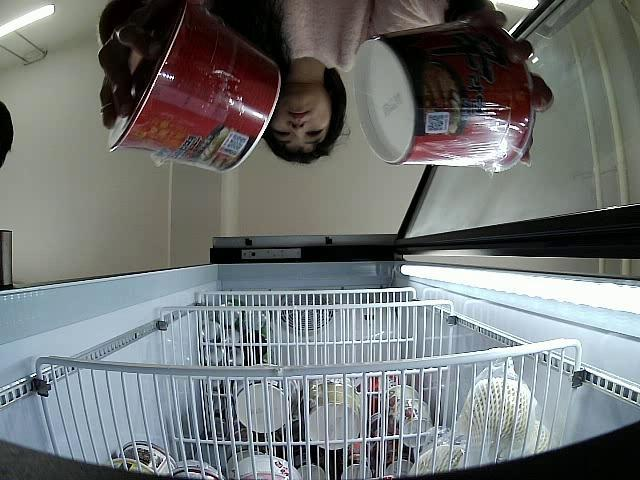01_ShinRamen_L: (104, 0, 283, 172), (352, 15, 535, 174)
